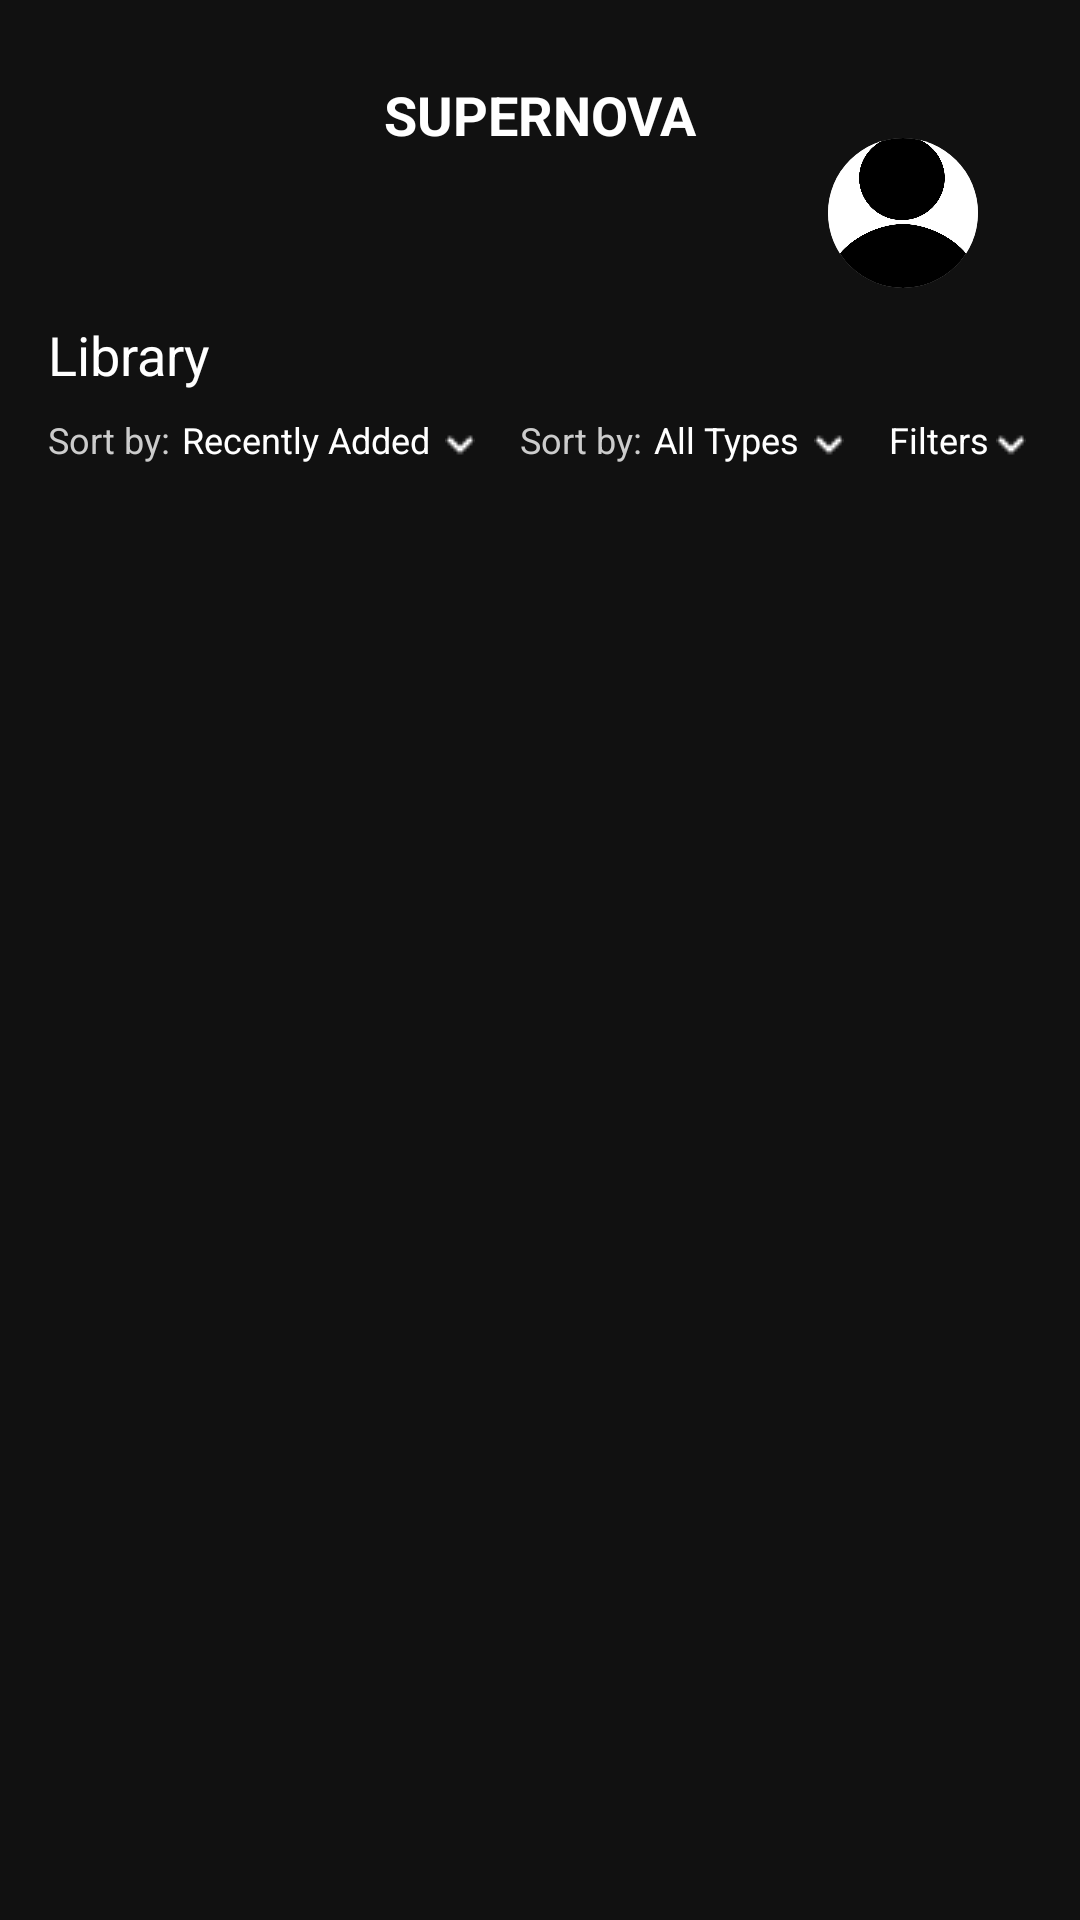

Point at icon controls on the screen. Image size 1080x1920, points as (x=x, y=y).
down: (x=460, y=445), (x=829, y=445), (x=1011, y=445)
profileavatar: (x=903, y=213)
